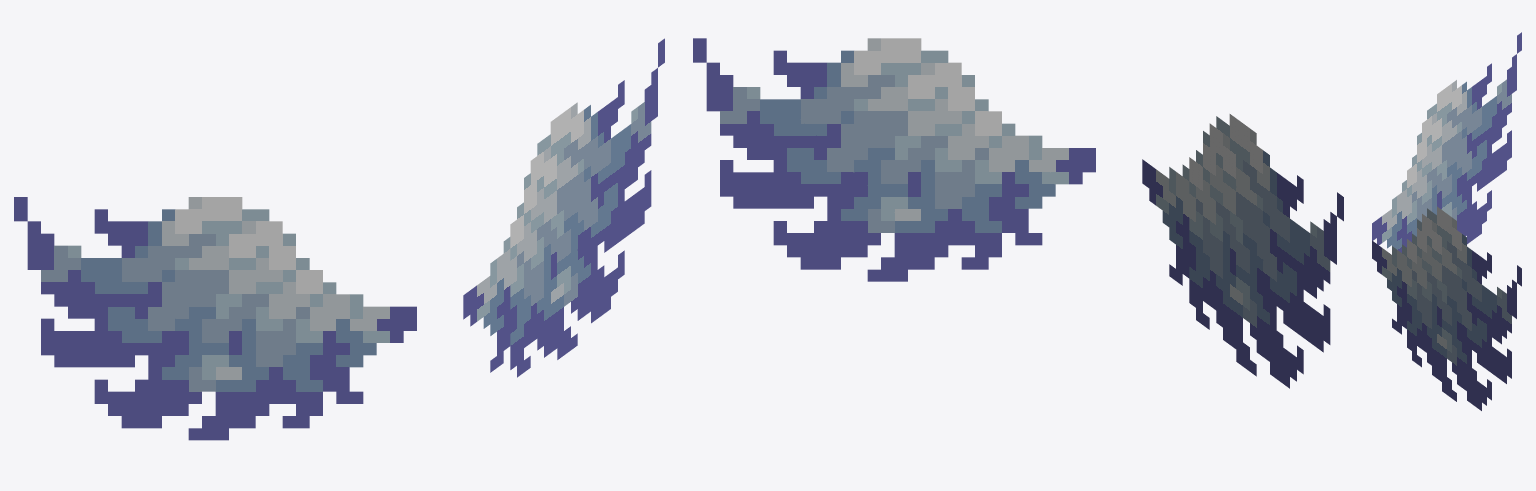
Rendered from sl_spirit_flame_wings.glb.
The picture shows the model from 3 angles, left to right: view 1: azimuth 30°, elevation 25°; view 2: azimuth 150°, elevation 25°; view 3: azimuth 270°, elevation 25°; orthographic projection. The views are drawn at different scales.
Parts seen in each view (by area): view 1: bb_spirit_flame_wings; view 2: bb_spirit_flame_wings; view 3: bb_spirit_flame_wings.
Part boxes in pixels (x1,y1,x2,y2): bb_spirit_flame_wings: (14, 38, 664, 440); bb_spirit_flame_wings: (693, 38, 1343, 388); bb_spirit_flame_wings: (1372, 32, 1521, 410).
Size of the model in its own units: 3.5 by 1.56 by 0.9375.
1 material, 1 textured.
